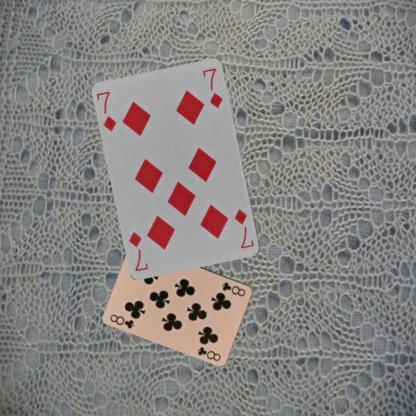7d: (95, 88, 118, 133), (232, 206, 255, 250)
8c: (107, 311, 136, 330), (219, 280, 247, 298)
